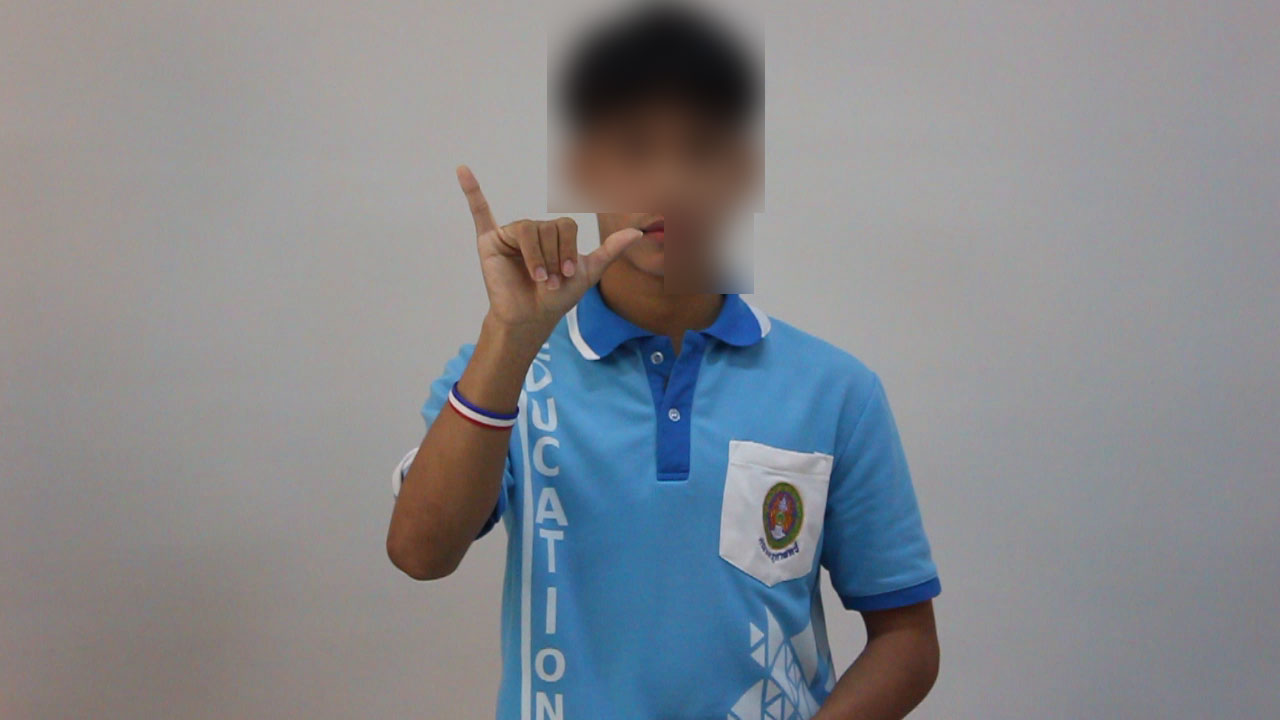yor: (433, 163, 649, 347)
